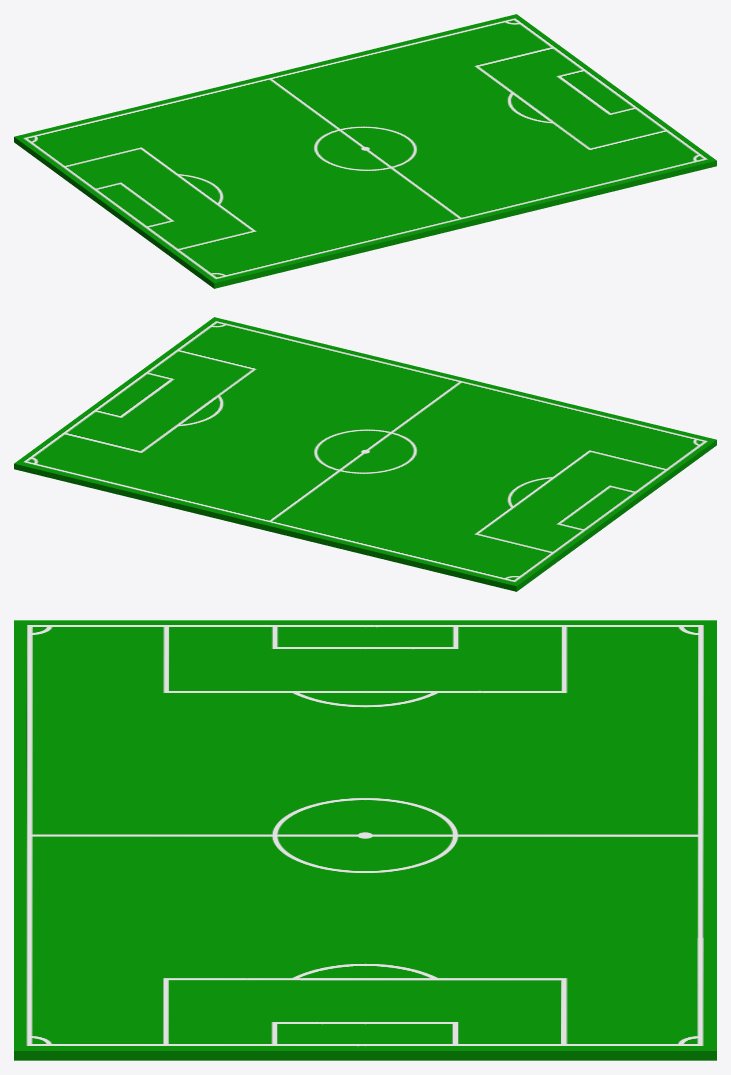
Rendered from Pitch.gltf.
The picture shows the model from 3 angles, top to bottom: view 1: azimuth 30°, elevation 25°; view 2: azimuth 150°, elevation 25°; view 3: azimuth 270°, elevation 25°; orthographic projection. The views are drawn at different scales.
Visible parts, largest first — view 1: SM_Pitch; view 2: SM_Pitch; view 3: SM_Pitch.
Boxes of the visible parts, x1=… form: SM_Pitch: x1=14, y1=14, x2=716, y2=288; SM_Pitch: x1=14, y1=317, x2=716, y2=591; SM_Pitch: x1=14, y1=620, x2=716, y2=1060.
Size of the model in its own units: 100 by 1.06 by 69.
1 material, 1 textured.
